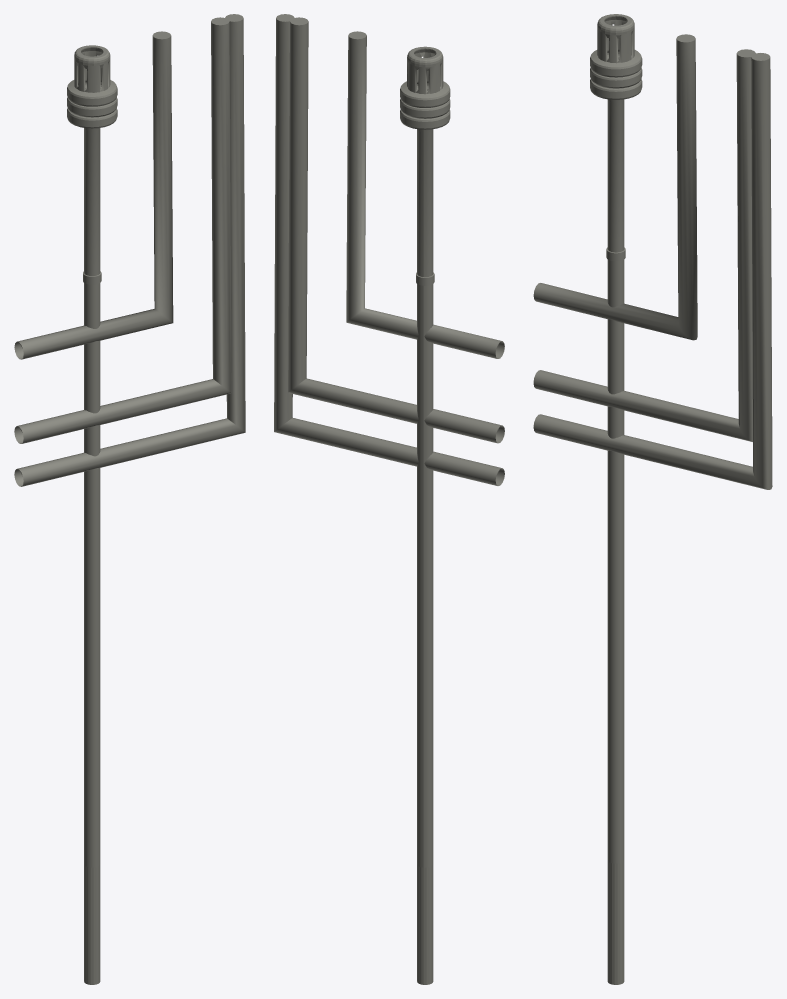
Rendered from pipe_intersection_02.fbx.
The picture shows the model from 3 angles, left to right: view 1: azimuth 30°, elevation 25°; view 2: azimuth 150°, elevation 25°; view 3: azimuth 330°, elevation 25°; orthographic projection. The views are drawn at different scales.
Visible parts, largest first — view 1: pipe_intersection_02; view 2: pipe_intersection_02; view 3: pipe_intersection_02.
Boxes of the visible parts, left/top/right/bottom form: pipe_intersection_02: left=14, top=14, right=245, bottom=984; pipe_intersection_02: left=274, top=14, right=504, bottom=984; pipe_intersection_02: left=533, top=14, right=772, bottom=984.
Bounding box in the file's own units: 183 × 722 × 35.56.
